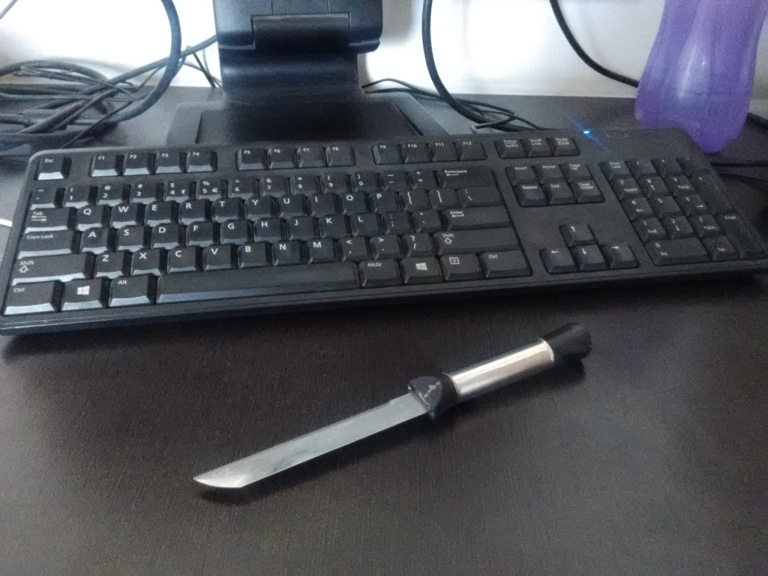knife: (192, 321, 594, 493)
